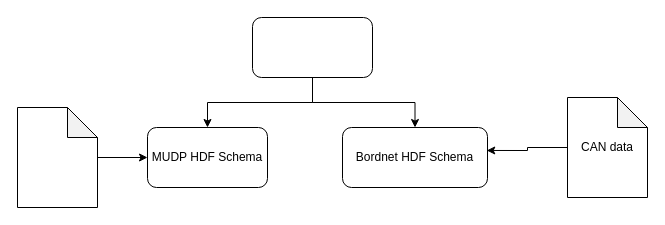
Image size: 665x225. Some labels were removed from this diagram. The centre of each missing label's shape, as x and y in pixels:
HDF Schema: the point at 312,47
UDP Data: the point at 57,157
